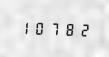eight: (60, 20, 73, 37)
one: (18, 18, 31, 36)
seven: (46, 19, 59, 37)
two: (74, 20, 87, 38)
zero: (32, 19, 45, 36)
